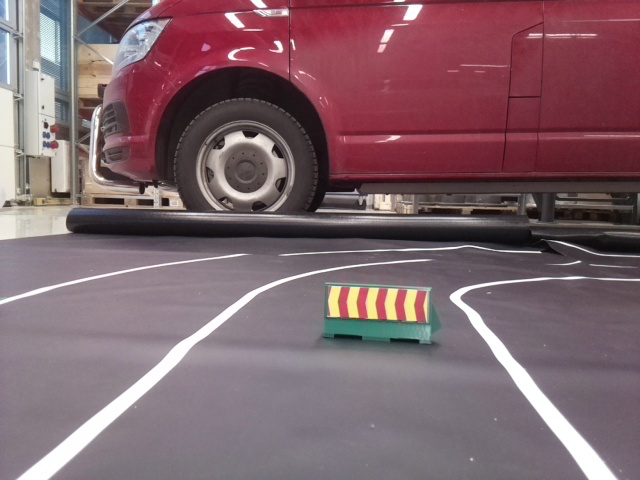ClosedRoadStand: (326, 282, 433, 343)
